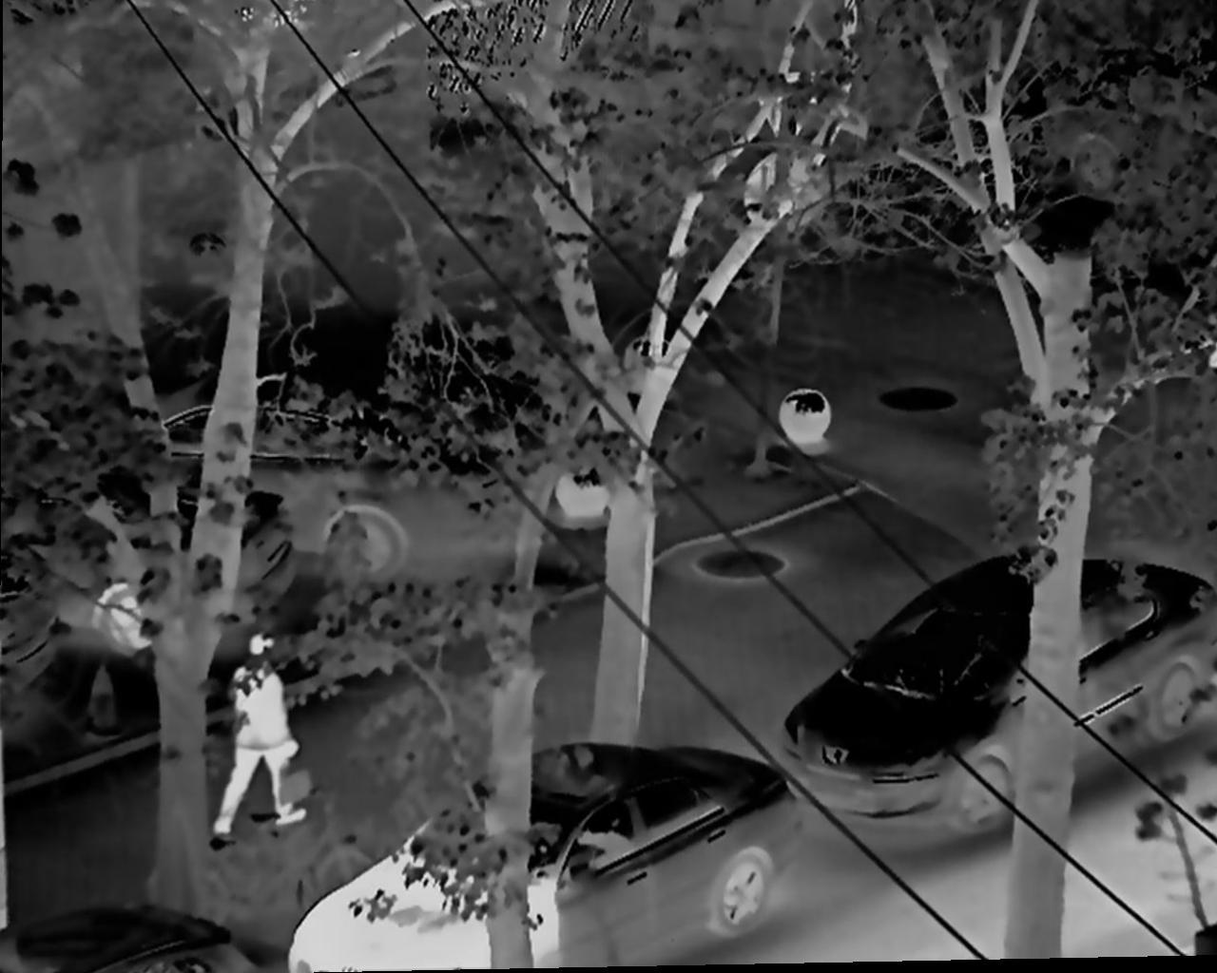person: (214, 665, 308, 832)
